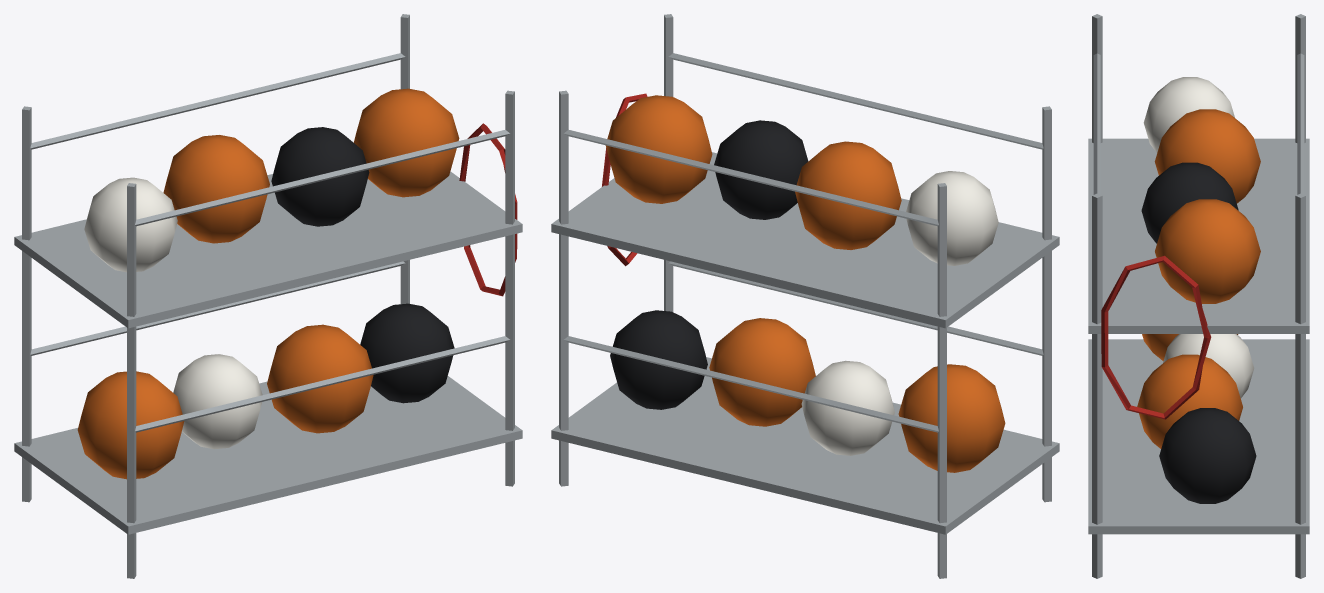
The model's file is sports_rack.glb.
3 views of the same model, side by side, from view 1: azimuth 30°, elevation 25°; view 2: azimuth 150°, elevation 25°; view 3: azimuth 270°, elevation 25° (orthographic). The views are drawn at different scales.
Parts seen in each view (by area): view 1: BallCart; view 2: BallCart; view 3: BallCart.
Part boxes in pixels (x1,y1,x2,y2): BallCart: [14, 14, 522, 578]; BallCart: [551, 14, 1059, 578]; BallCart: [1088, 14, 1309, 578].
Size of the model in its own units: 1.01 by 0.95 by 0.5.
